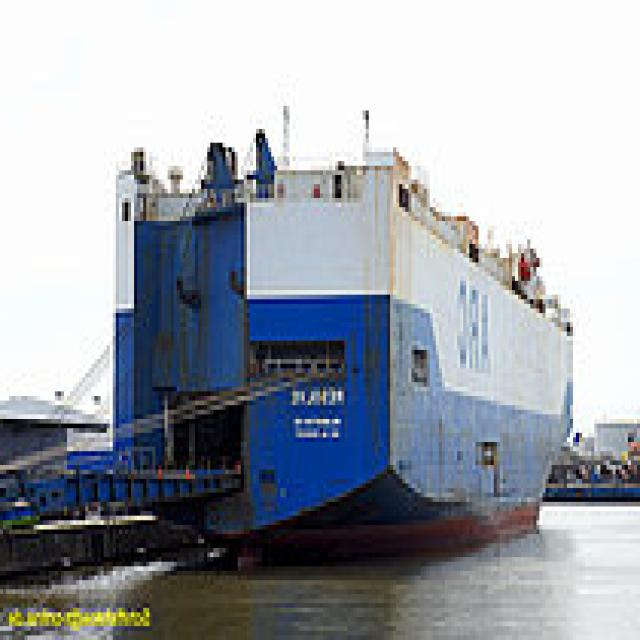Carrier: (110, 101, 582, 571)
